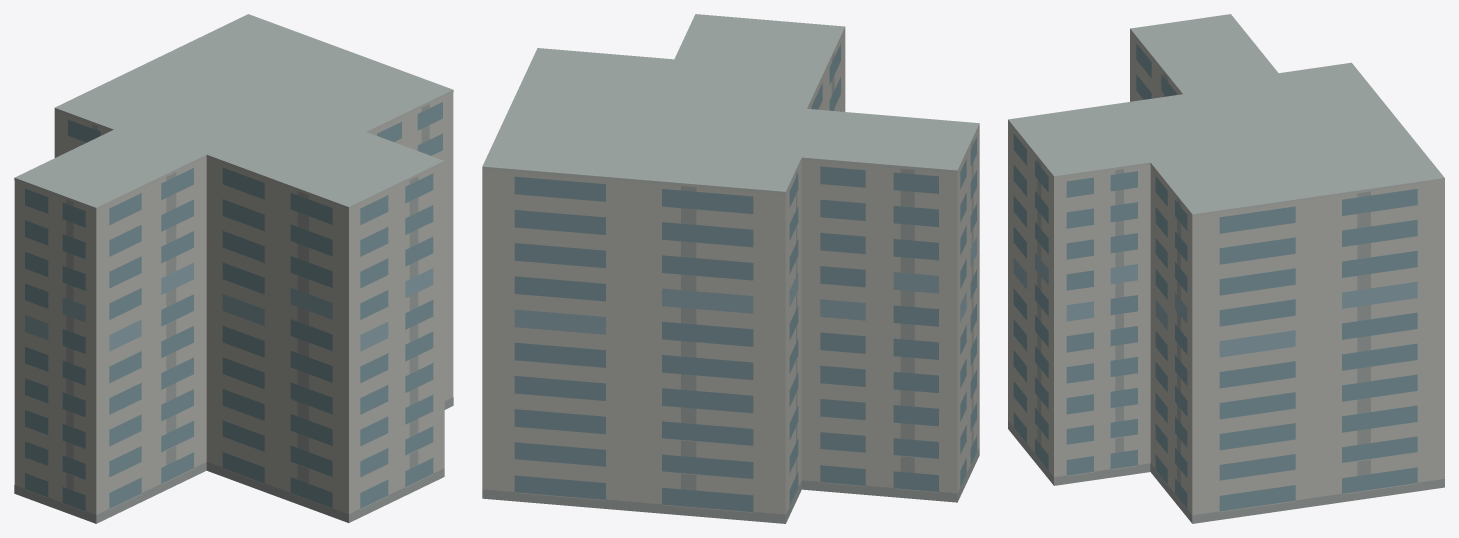
File: residential-831be97d-e3bf-4991-b425-db96366bbdc9.glb
The picture shows the model from 3 angles, left to right: view 1: azimuth 30°, elevation 25°; view 2: azimuth 150°, elevation 25°; view 3: azimuth 270°, elevation 25°; orthographic projection. The views are drawn at different scales.
Parts seen in each view (by area): view 1: residential-831be97d-e3bf-4991-b425-db96366bbdc9.tmp; view 2: residential-831be97d-e3bf-4991-b425-db96366bbdc9.tmp; view 3: residential-831be97d-e3bf-4991-b425-db96366bbdc9.tmp.
Boxes of the visible parts, bbox=[...] form: residential-831be97d-e3bf-4991-b425-db96366bbdc9.tmp: bbox=[14, 14, 453, 523]; residential-831be97d-e3bf-4991-b425-db96366bbdc9.tmp: bbox=[482, 14, 979, 523]; residential-831be97d-e3bf-4991-b425-db96366bbdc9.tmp: bbox=[1008, 14, 1444, 523].
Size of the model in its own units: 38.89 by 28 by 35.82.
